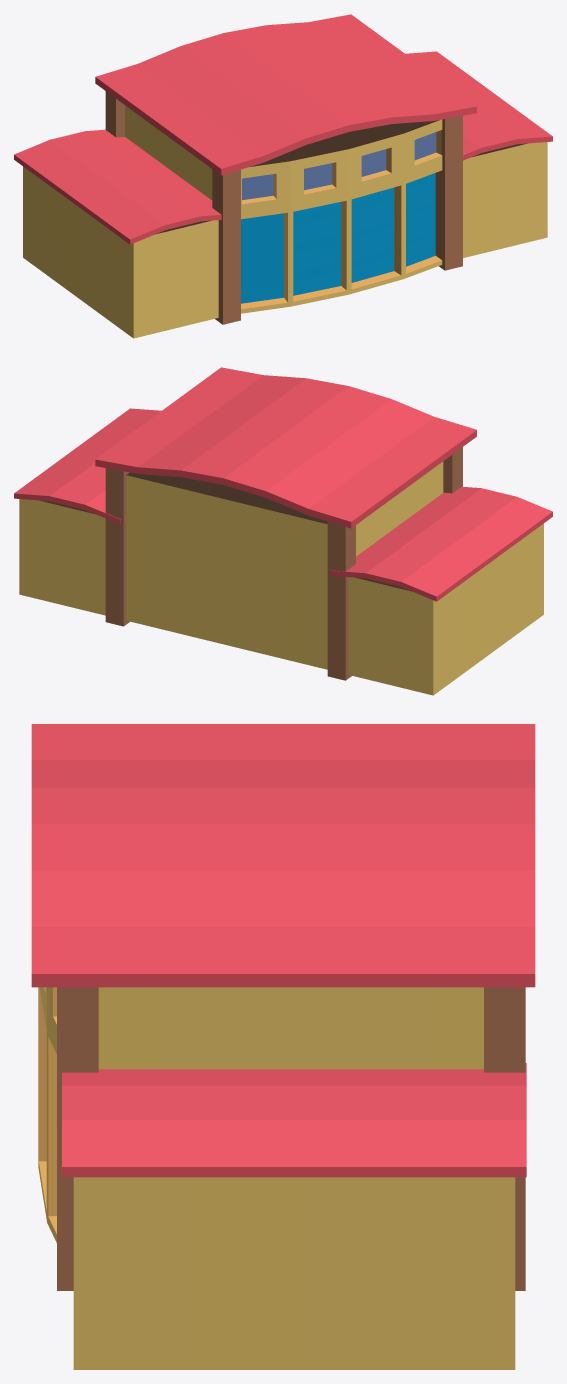
Rendered from School.fbx.
3 renders of one model, top to bottom at view 1: azimuth 30°, elevation 25°; view 2: azimuth 150°, elevation 25°; view 3: azimuth 270°, elevation 25°, orthographic. The views are drawn at different scales.
Visible parts, largest first — view 1: Plane; view 2: Plane; view 3: Plane.
Part boxes in pixels (bbox=[...]): Plane: bbox=[14, 14, 552, 338]; Plane: bbox=[14, 367, 552, 695]; Plane: bbox=[31, 724, 535, 1369].
Size of the model in its own units: 2675 by 1058 by 1379.
